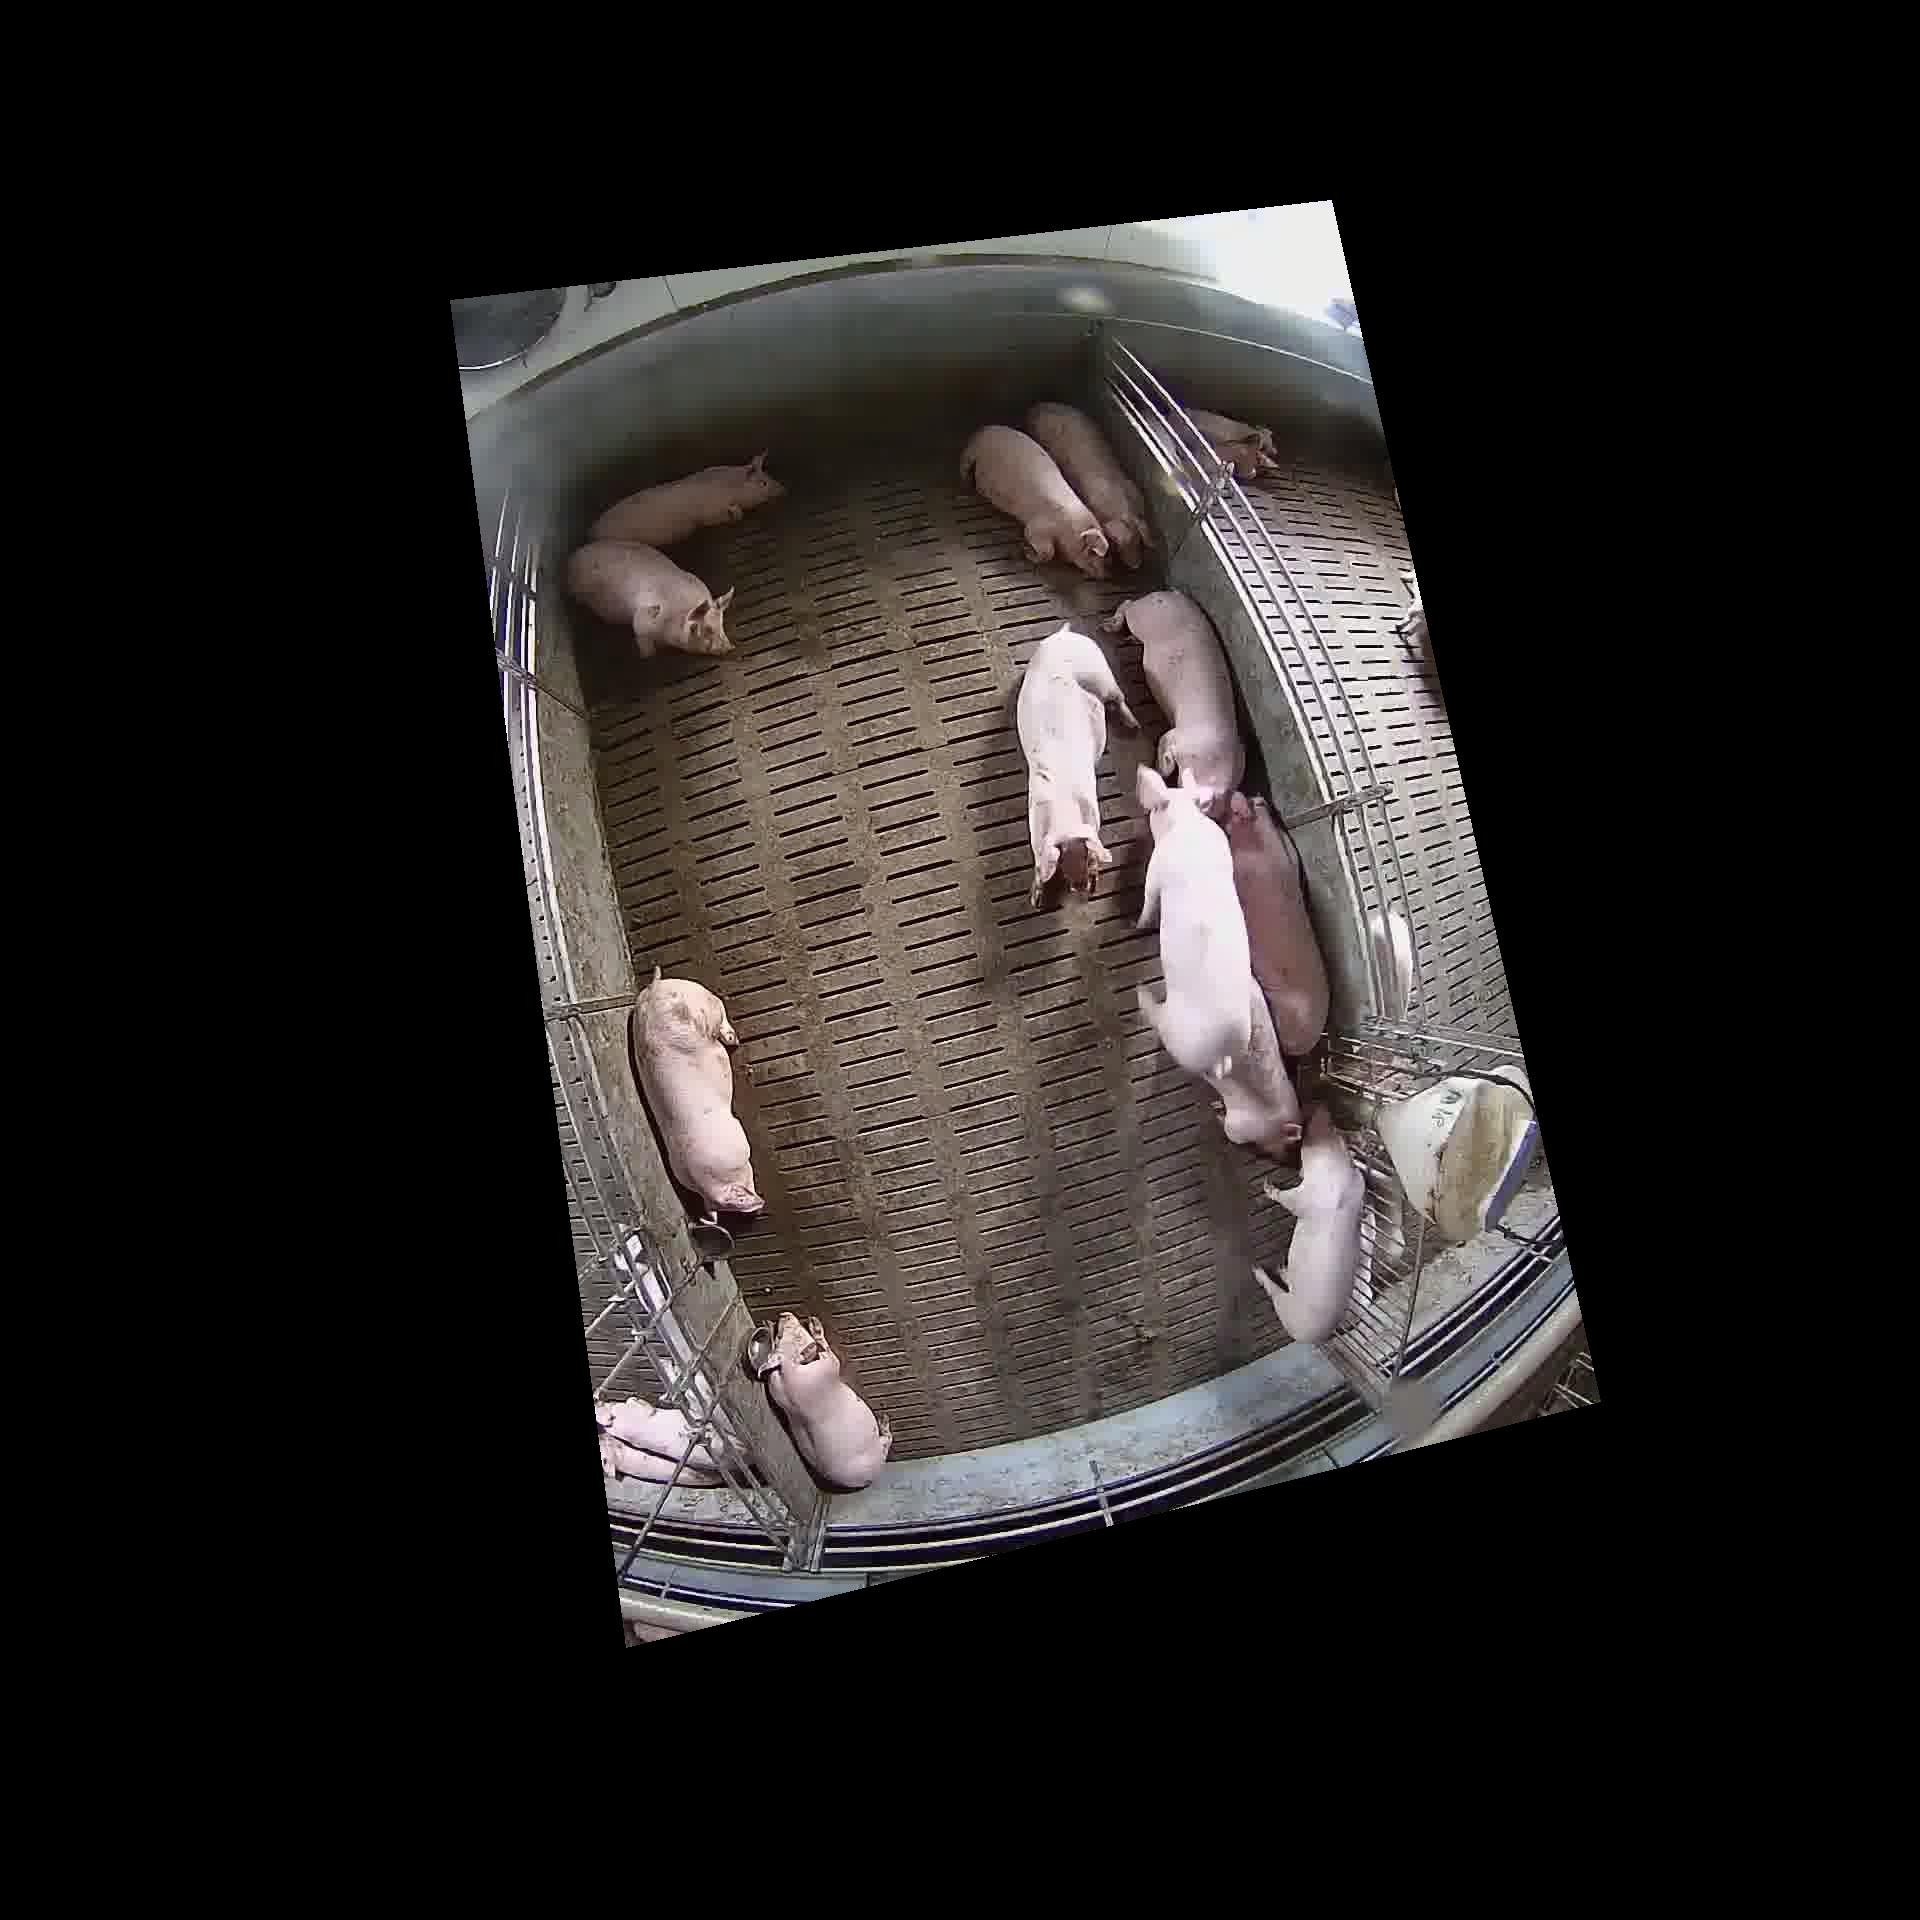pig: (1138, 765, 1252, 1074), (1016, 622, 1131, 900), (629, 974, 760, 1217), (1106, 591, 1241, 796), (1220, 791, 1326, 1055), (1255, 1102, 1363, 1342), (758, 1312, 890, 1486), (960, 425, 1106, 573), (1027, 403, 1148, 564), (564, 540, 731, 652), (587, 450, 782, 543), (1206, 988, 1298, 1159)
